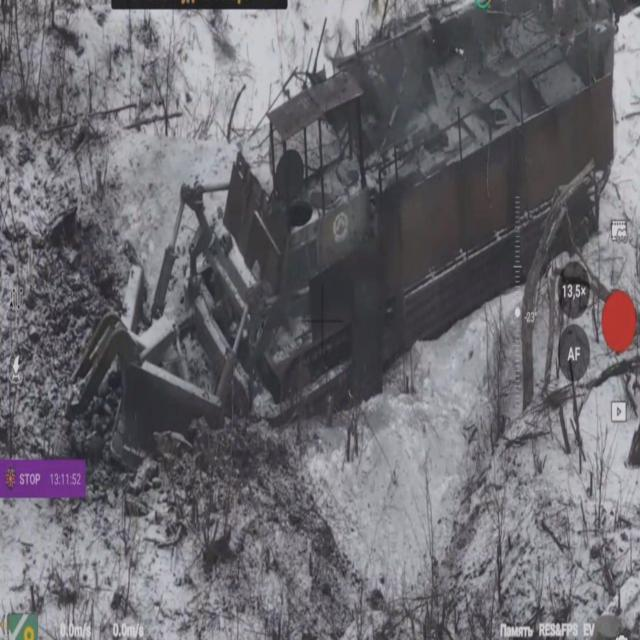vehicle: (100, 0, 615, 472)
